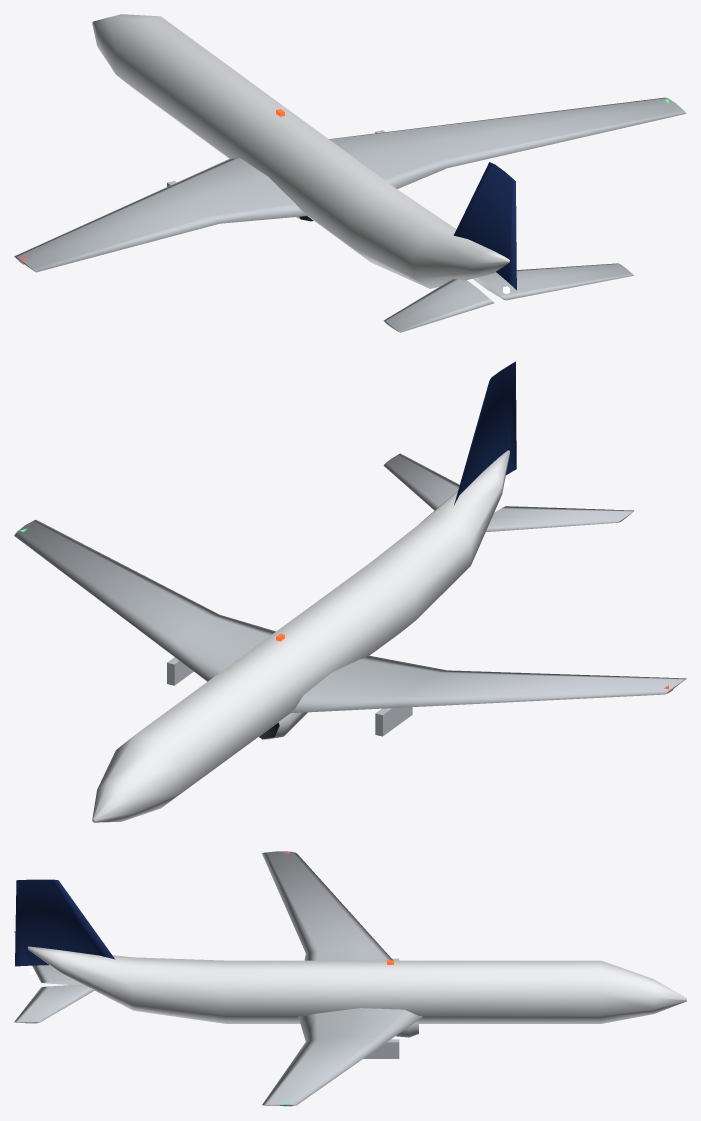
File: fleet_narrow_lod2.glb
3 renders of one model, top to bottom at view 1: azimuth 30°, elevation 25°; view 2: azimuth 150°, elevation 25°; view 3: azimuth 270°, elevation 25°, orthographic. The views are drawn at different scales.
Visible parts, largest first — view 1: fleet_narrow_lod2_white, fleet_narrow_lod2_wing, fleet_narrow_lod2_blue; view 2: fleet_narrow_lod2_white, fleet_narrow_lod2_wing, fleet_narrow_lod2_blue; view 3: fleet_narrow_lod2_white, fleet_narrow_lod2_wing, fleet_narrow_lod2_blue.
Part boxes in pixels (x1=…): fleet_narrow_lod2_white: x1=92, y1=14, x2=509, y2=288; fleet_narrow_lod2_wing: x1=14, y1=97, x2=686, y2=332; fleet_narrow_lod2_blue: x1=453, y1=162, x2=516, y2=289; fleet_narrow_lod2_white: x1=92, y1=450, x2=509, y2=822; fleet_narrow_lod2_wing: x1=14, y1=453, x2=686, y2=736; fleet_narrow_lod2_blue: x1=454, y1=361, x2=516, y2=505; fleet_narrow_lod2_white: x1=28, y1=946, x2=686, y2=1023; fleet_narrow_lod2_wing: x1=14, y1=851, x2=422, y2=1106; fleet_narrow_lod2_blue: x1=15, y1=879, x2=114, y2=966.
Bounding box in the file's own units: 35.8 × 10.37 × 40.35.
